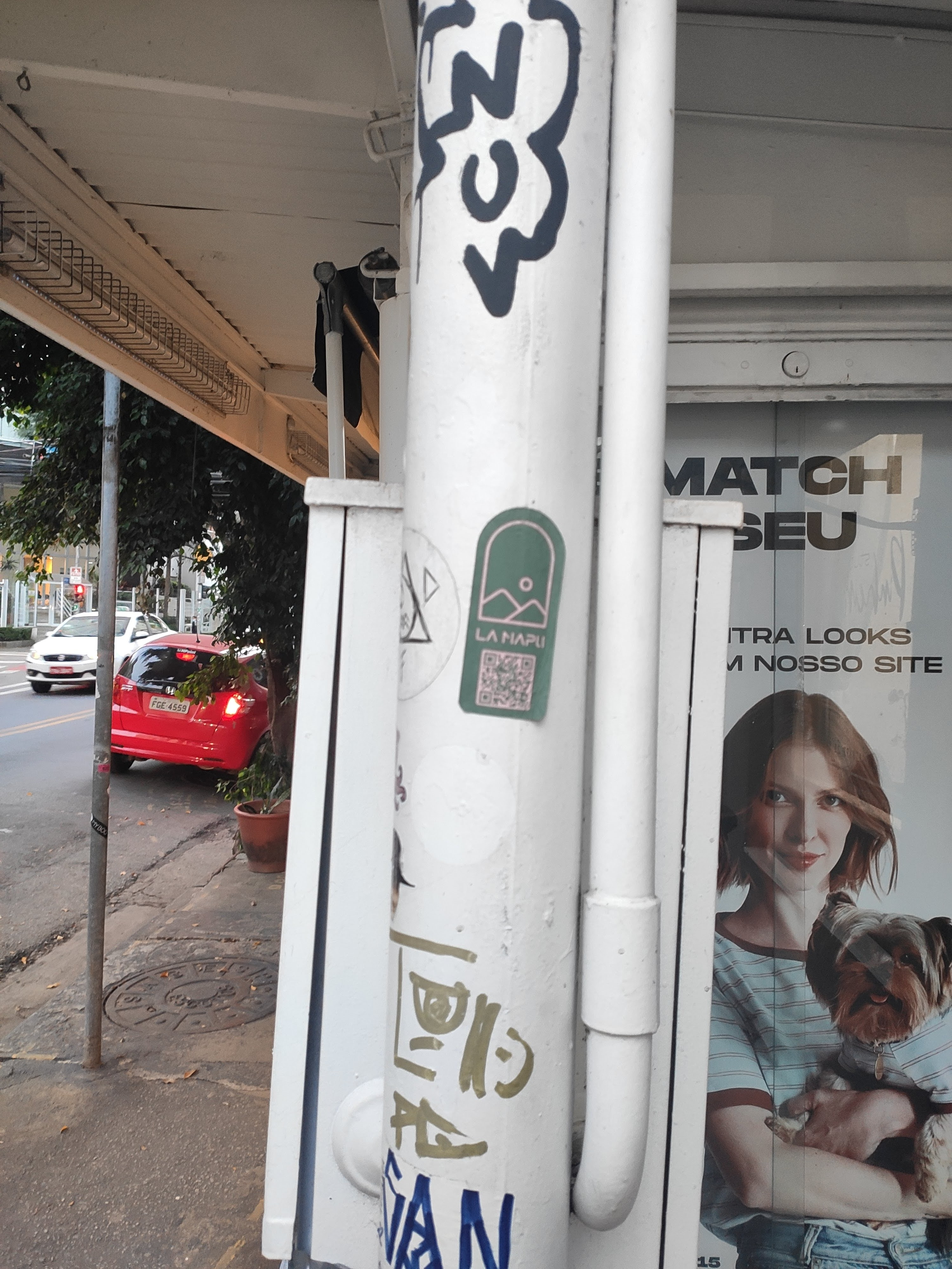QR-CODE: (478, 652, 533, 709)
